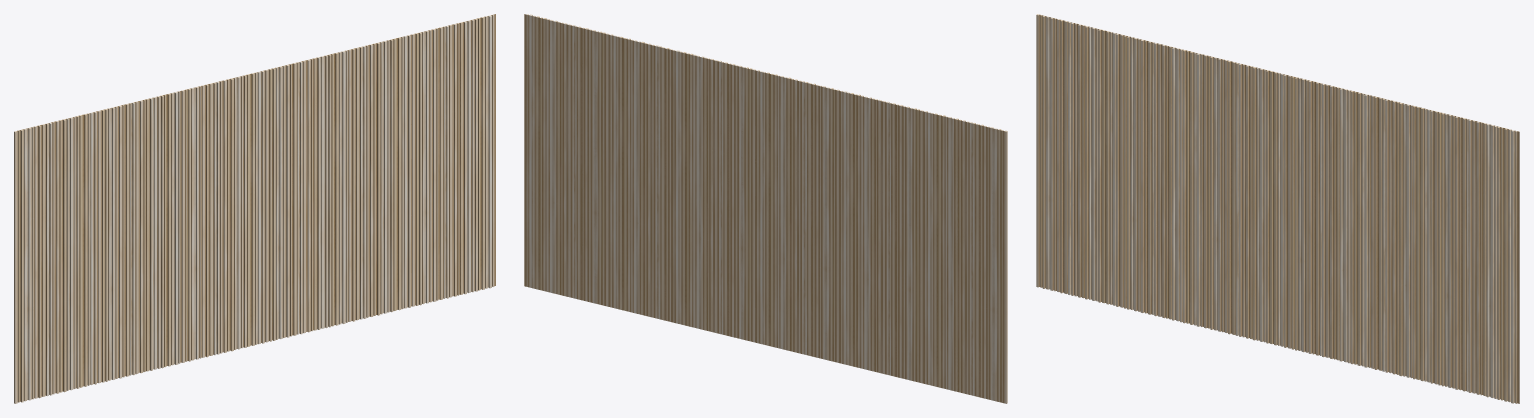
File: VARIABLE WALL.glb
3 renders of one model, left to right at view 1: azimuth 30°, elevation 25°; view 2: azimuth 150°, elevation 25°; view 3: azimuth 330°, elevation 25°, orthographic.
Visible parts, largest first — view 1: Object029; view 2: Object029; view 3: Object029.
Boxes of the visible parts, box(x1,y1,x2,y2) form: Object029: box(14, 14, 495, 403); Object029: box(524, 14, 1007, 403); Object029: box(1036, 14, 1519, 403).
Size of the model in its own units: 10.3 by 5.55 by 0.0507.
Materials: 1 (1 with a texture image).
